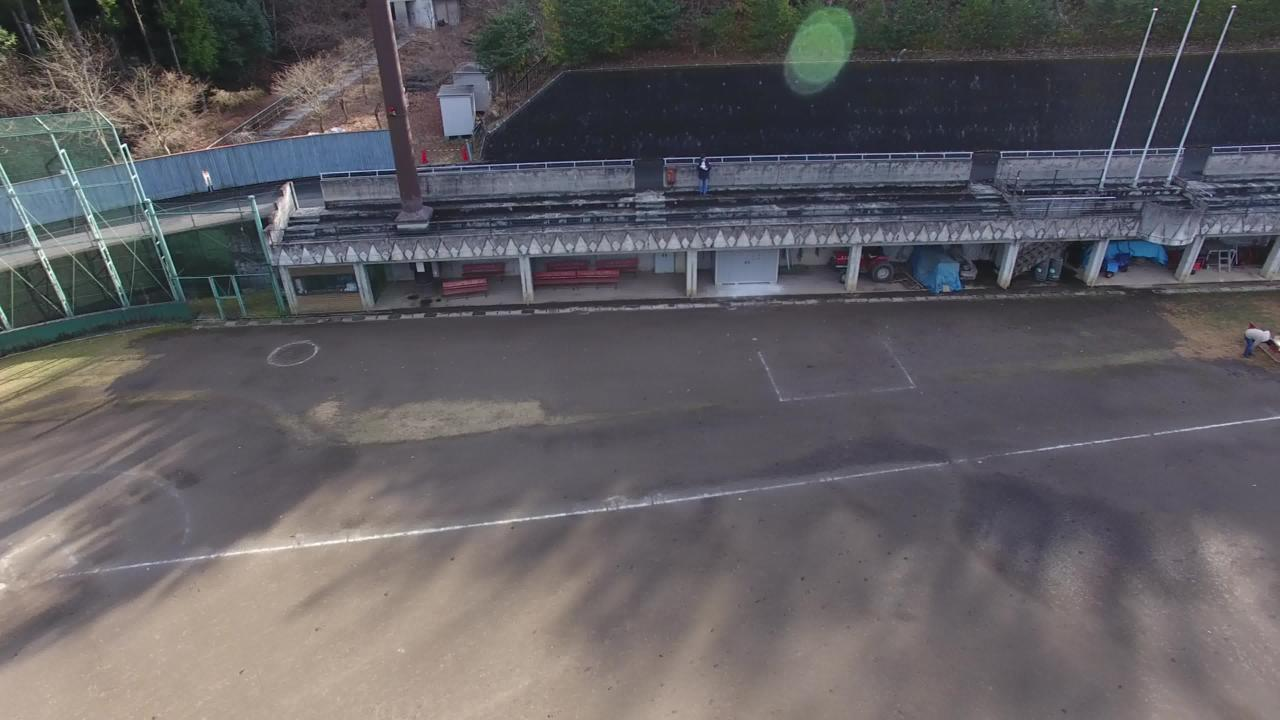person: (691, 155, 716, 197), (1243, 318, 1268, 360)
